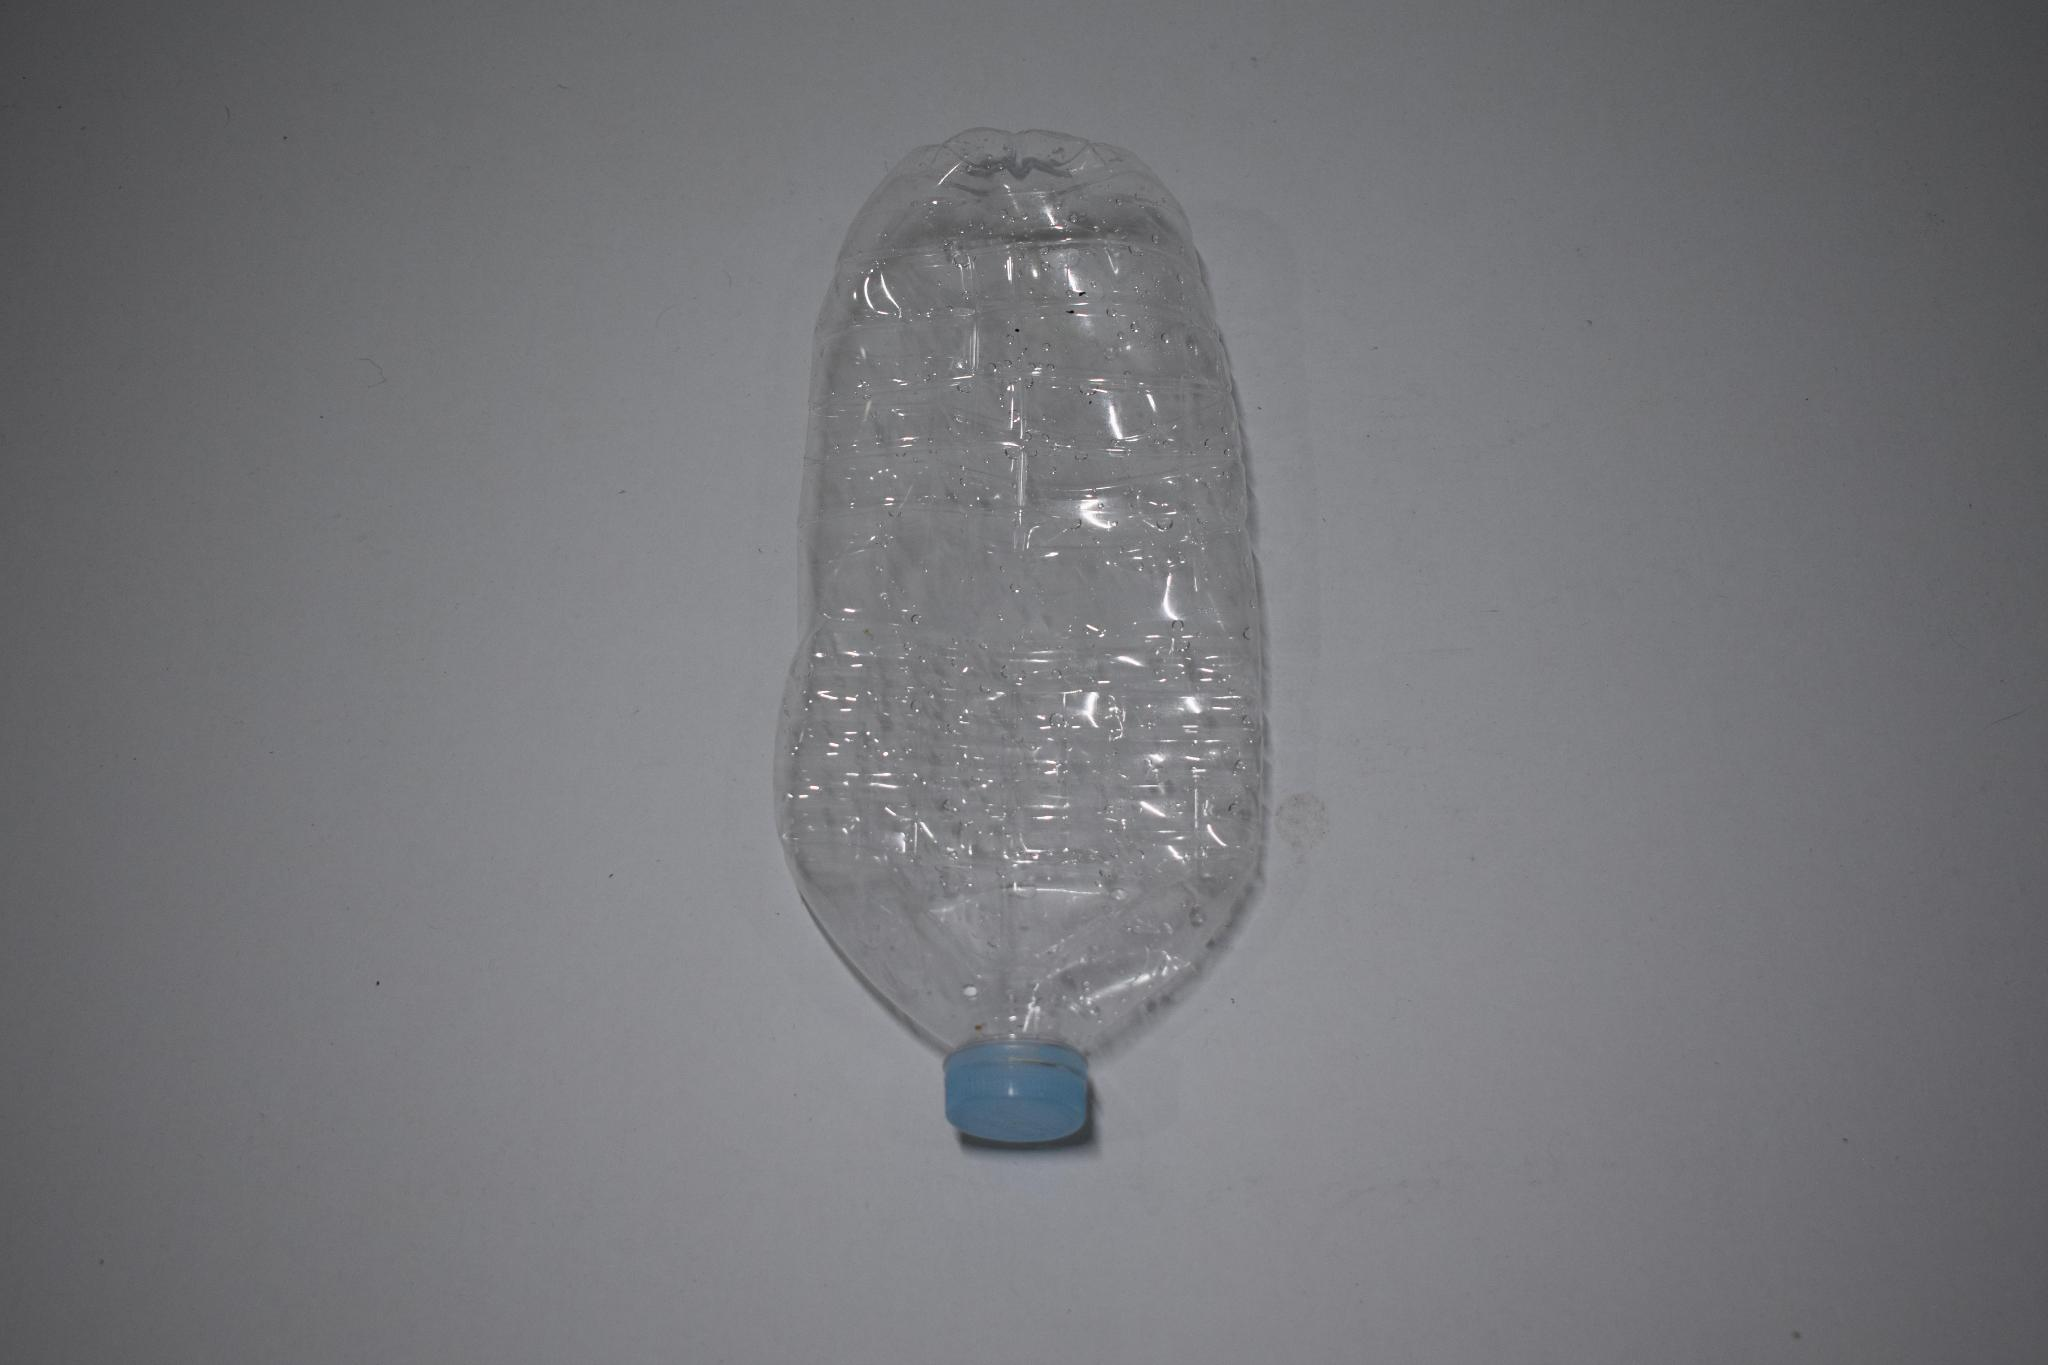bottle: (787, 126, 1293, 1173)
